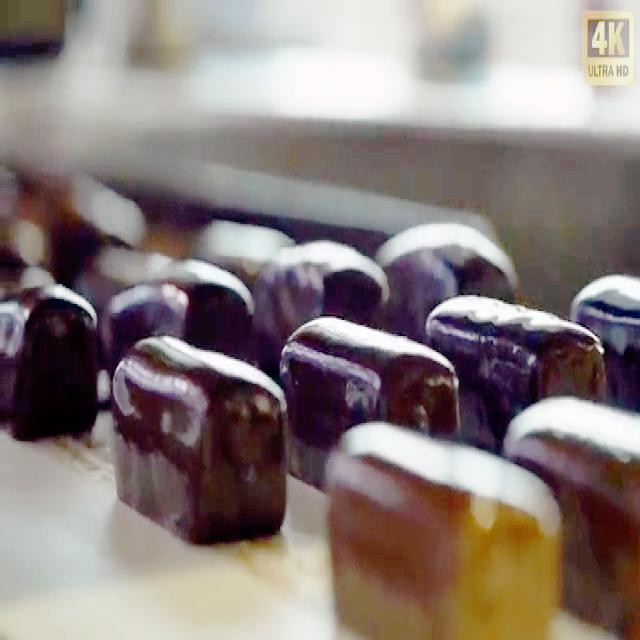Choco: (323, 416, 563, 635), (109, 329, 289, 546), (278, 309, 460, 489), (373, 217, 528, 380), (107, 256, 254, 425), (424, 288, 606, 411), (254, 223, 388, 388), (4, 268, 100, 452), (570, 263, 640, 420)
